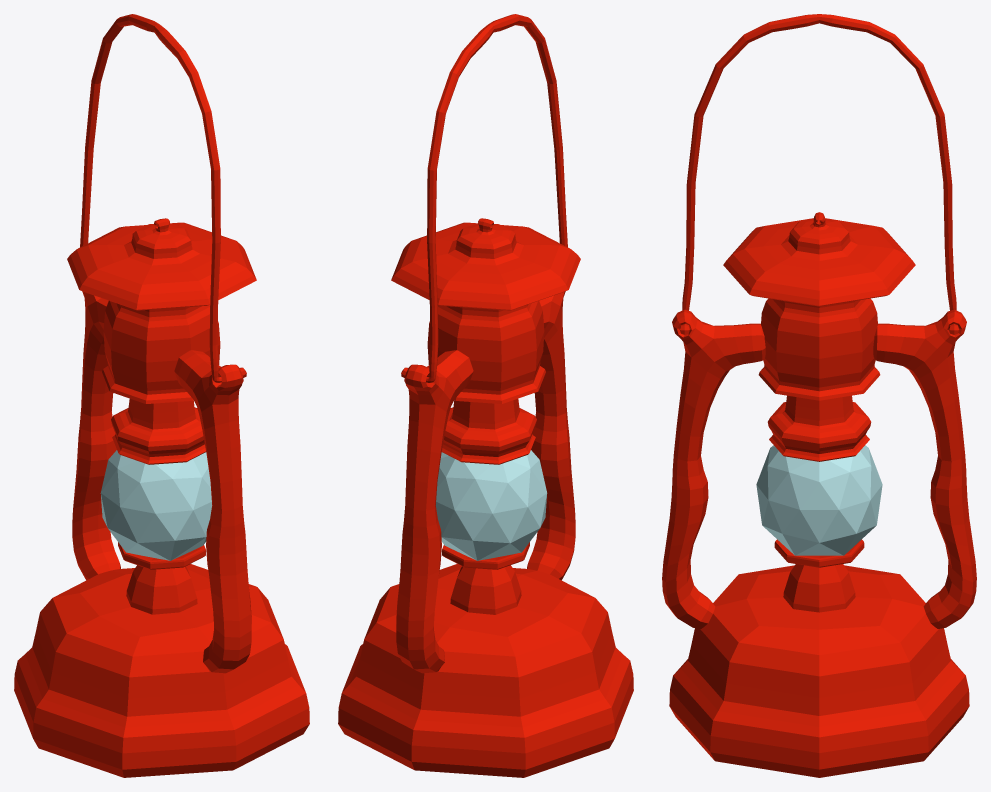
File: Lantern.glb
The picture shows the model from 3 angles, left to right: view 1: azimuth 30°, elevation 25°; view 2: azimuth 150°, elevation 25°; view 3: azimuth 270°, elevation 25°; orthographic projection.
Visible parts, largest first — view 1: Bottom, Top, Handles, Bulb Glass, Cube, Bottom Lighter; view 2: Bottom, Top, Handles, Bulb Glass, Cube, Bottom Lighter; view 3: Bottom, Top, Handles, Bulb Glass, Cube, Bottom Lighter.
Part boxes in pixels (<box>): Bottom: <box>14,564,309,777</box>; Top: <box>67,218,256,464</box>; Handles: <box>72,291,251,673</box>; Bulb Glass: <box>100,450,212,560</box>; Cube: <box>80,14,246,382</box>; Bottom Lighter: <box>118,542,205,614</box>; Bottom: <box>338,564,633,777</box>; Top: <box>391,218,580,464</box>; Handles: <box>396,291,575,673</box>; Bulb Glass: <box>435,450,547,560</box>; Cube: <box>401,14,567,382</box>; Bottom Lighter: <box>442,542,529,614</box>; Bottom: <box>669,565,969,777</box>; Top: <box>723,212,915,461</box>; Handles: <box>662,309,976,628</box>; Bulb Glass: <box>756,445,882,555</box>; Cube: <box>679,14,959,334</box>; Bottom Lighter: <box>774,539,864,612</box>.
Size of the model in its own units: 1.72 by 4.47 by 1.8.
